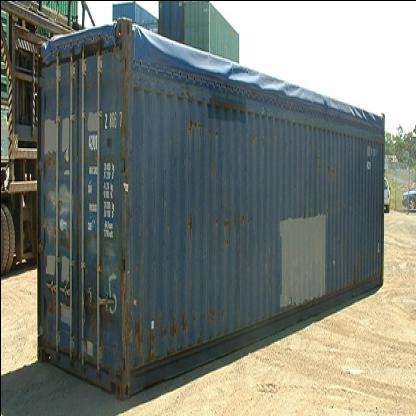Damage: (113, 28, 132, 388), (204, 96, 246, 138), (210, 204, 252, 242), (86, 286, 112, 336), (128, 307, 144, 365), (198, 298, 219, 336), (160, 315, 178, 359), (146, 312, 159, 370), (181, 198, 197, 238), (43, 284, 62, 314), (44, 219, 66, 242), (182, 108, 200, 136), (345, 252, 361, 278), (178, 306, 189, 342), (42, 147, 58, 170), (324, 161, 335, 187)
